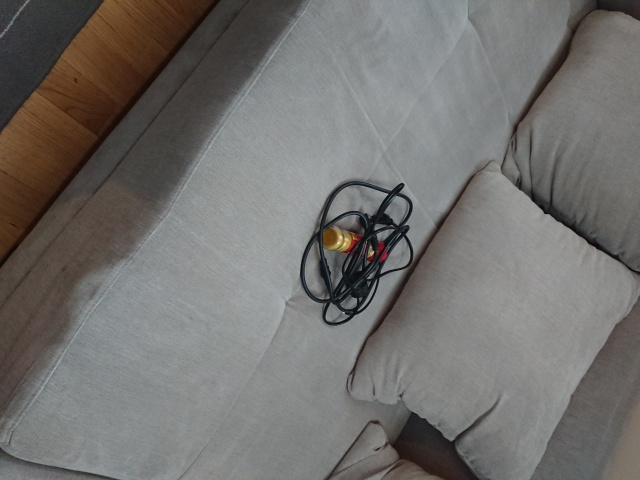Kotanyi Curry Spices Mix 70g: (318, 224, 389, 264)
